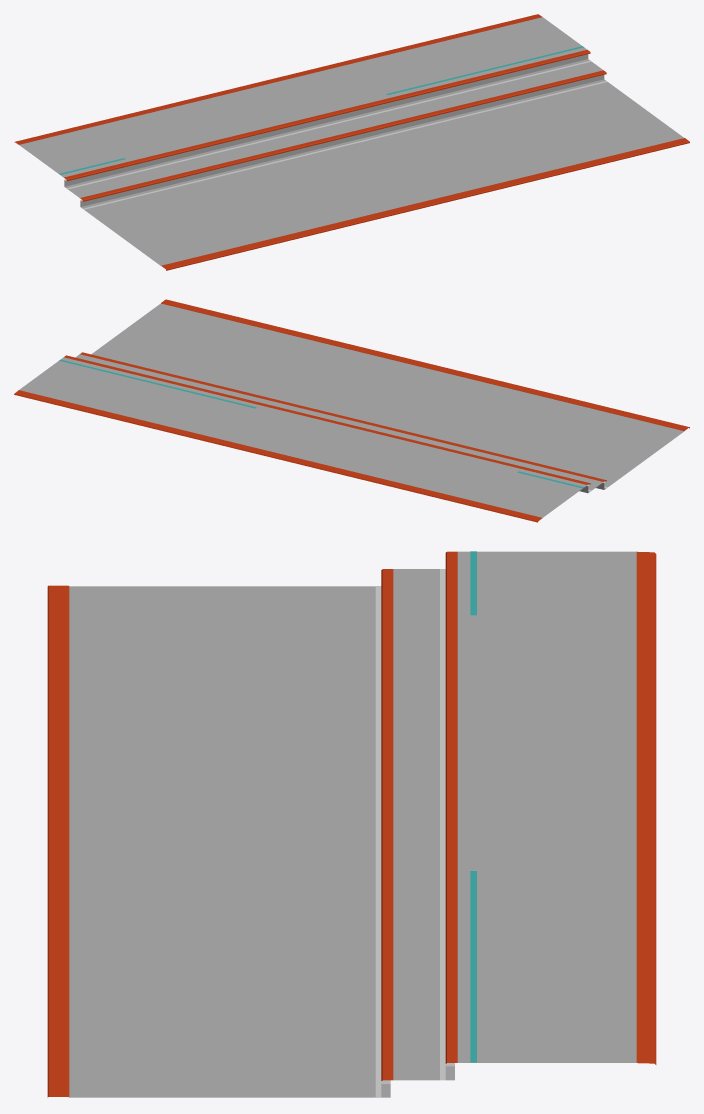
File: W_O_Stairs_Str_001_a_L0.fbx
3 renders of one model, top to bottom at view 1: azimuth 30°, elevation 25°; view 2: azimuth 150°, elevation 25°; view 3: azimuth 270°, elevation 25°, orthographic. The views are drawn at different scales.
Parts seen in each view (by area): view 1: W_O_Stairs_Str_001_a_L0; view 2: W_O_Stairs_Str_001_a_L0; view 3: W_O_Stairs_Str_001_a_L0.
Part boxes in pixels (box(x1,y1,x2,y2)): W_O_Stairs_Str_001_a_L0: box(14, 14, 689, 270); W_O_Stairs_Str_001_a_L0: box(14, 299, 689, 522); W_O_Stairs_Str_001_a_L0: box(47, 551, 656, 1097).
Bounding box in the file's own units: 16 × 8.04 × 0.5386.
